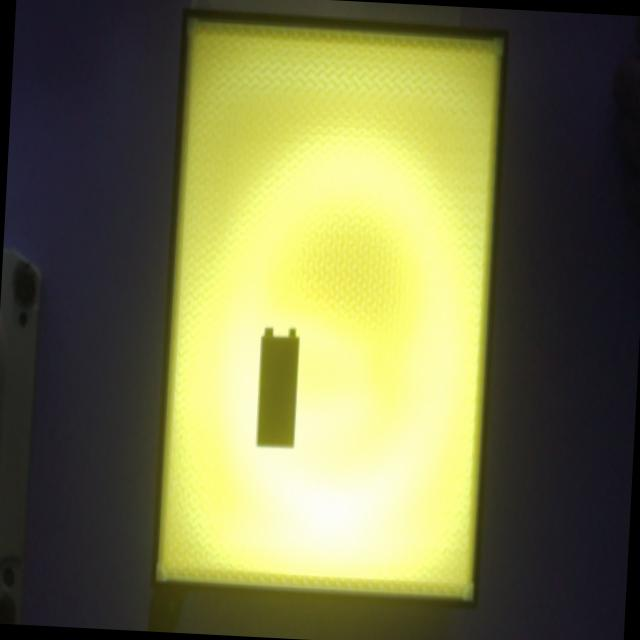bateria: (256, 326, 300, 447)
mesa: (150, 8, 509, 609)
